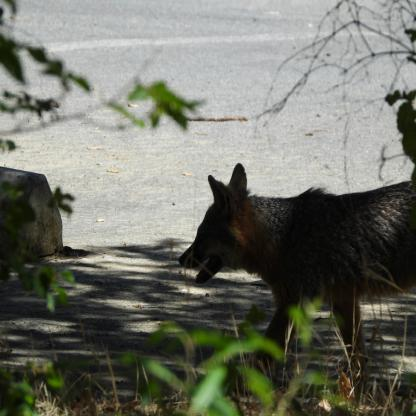zorro: (170, 158, 415, 396)
